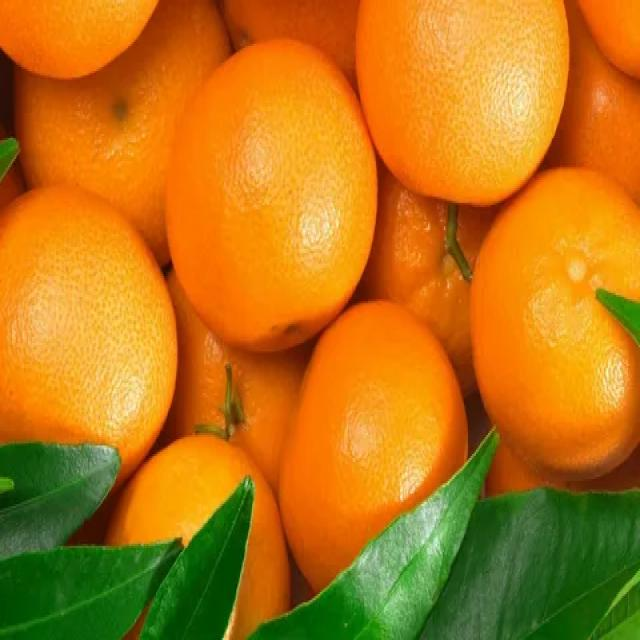orange: (164, 36, 386, 350), (468, 157, 640, 498)
